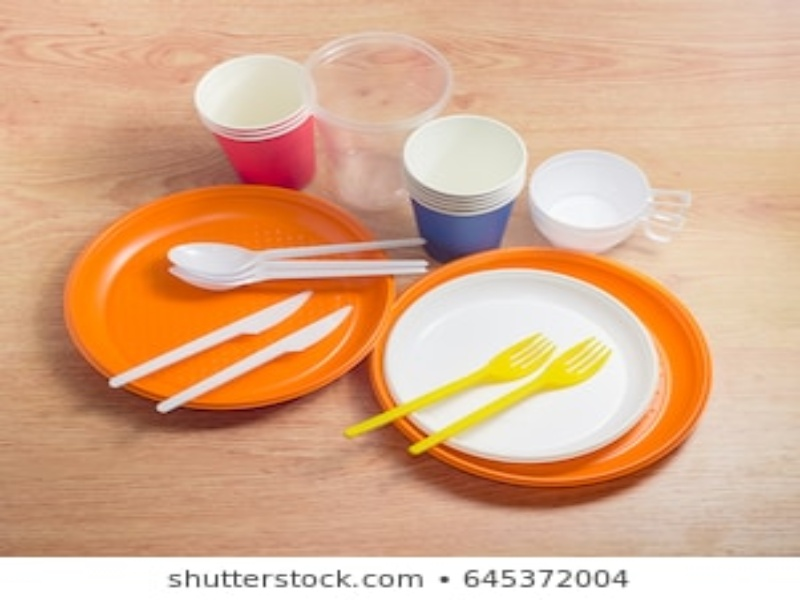plastic-cup: (306, 31, 450, 213), (403, 114, 528, 263), (191, 52, 320, 190)
plastic-plate: (376, 243, 714, 493), (61, 186, 395, 410), (383, 265, 664, 464)
plastic-silverware: (403, 332, 615, 466), (150, 302, 358, 414), (343, 327, 557, 434), (103, 289, 319, 388), (165, 235, 431, 275), (159, 258, 436, 290)
